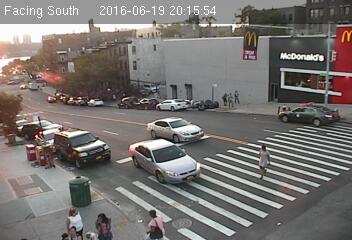neg: (42, 151, 54, 167), (169, 83, 179, 96), (150, 41, 157, 51), (131, 61, 138, 69)
pos: (248, 142, 277, 181), (141, 206, 165, 238), (93, 210, 115, 239), (62, 206, 82, 233), (68, 225, 79, 239), (232, 90, 243, 104), (225, 91, 235, 105), (222, 92, 231, 105), (61, 232, 67, 239)
